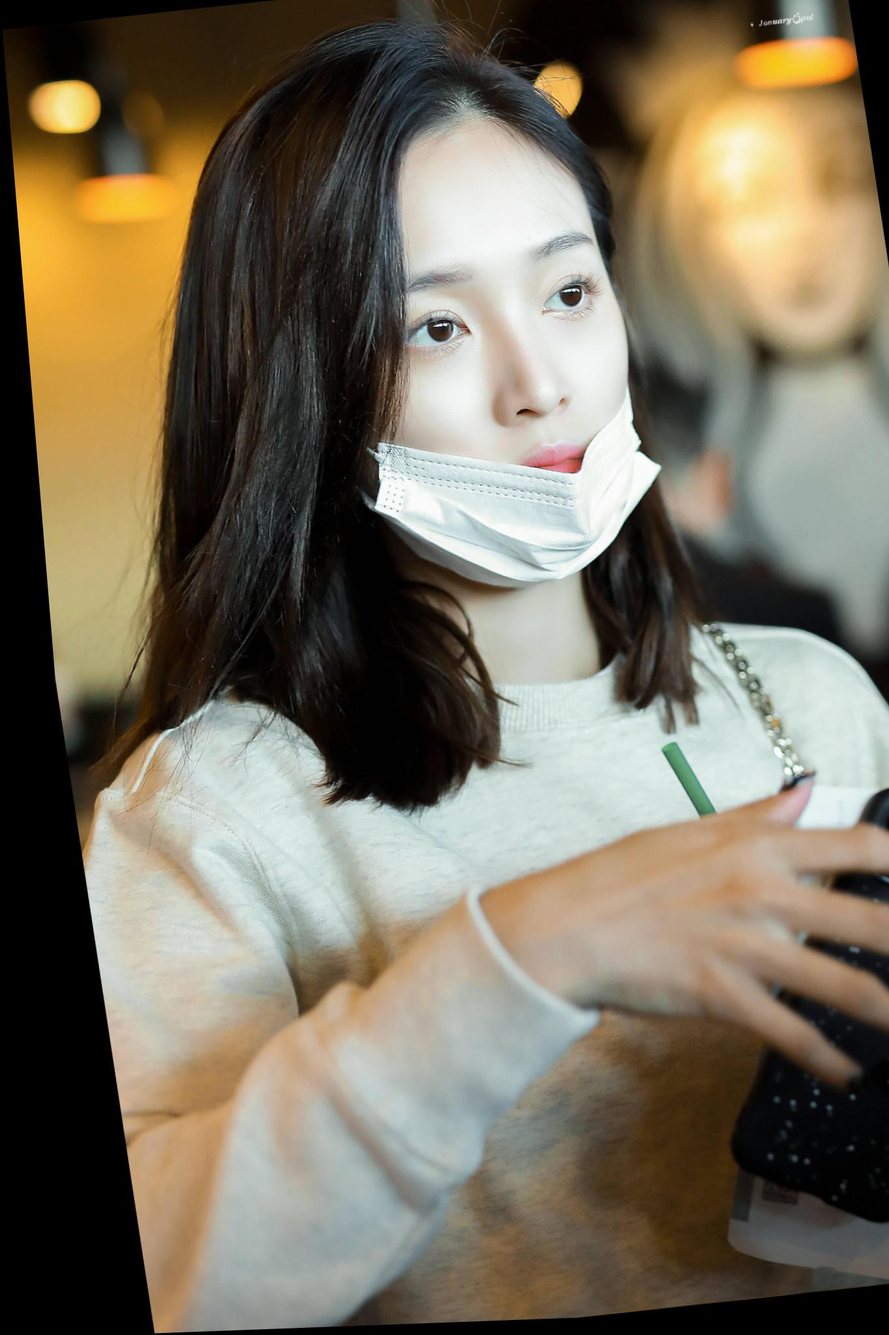WRONG: (320, 162, 655, 602)
